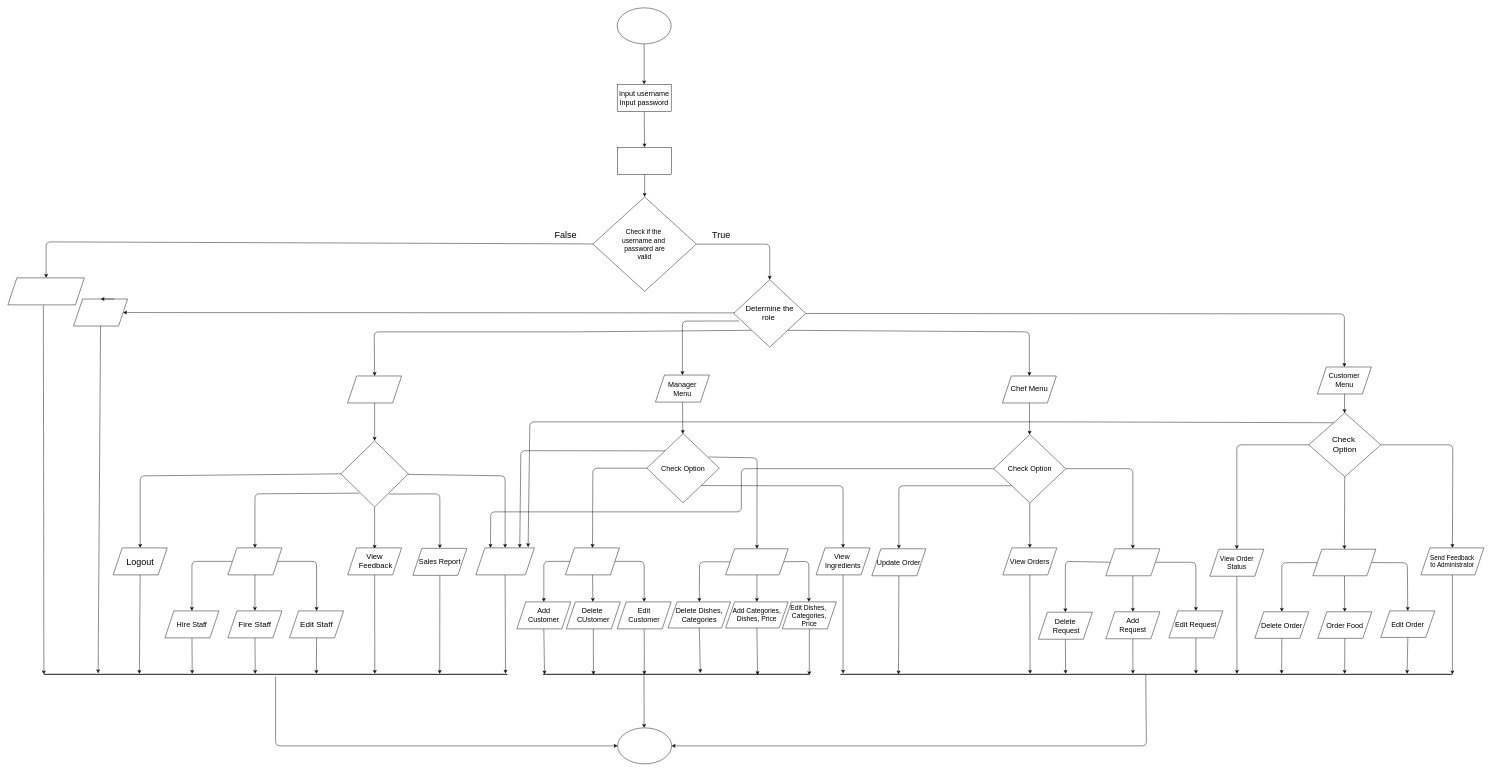
Some shapes in this 1492 by 772 pixel diagram are drawn without their labels. The shapes that lost their labels are listed below. From the top down, each one's box as (x1, y1, x2, y2) in pixels, then its label:
(617, 7, 671, 44): Start
(617, 147, 672, 174): Open the file
(7, 277, 84, 305): Display invalid username or password
(73, 299, 128, 326): Display invalid role
(347, 376, 402, 403): Admin Menu
(340, 440, 408, 507): Check the option
(227, 547, 282, 575): Manage Staff
(475, 547, 534, 575): Update Profile
(565, 547, 619, 575): Manage Customer
(725, 548, 788, 575): Manage menu categories and price
(1105, 548, 1160, 576): Request Ingredients
(1312, 549, 1376, 576): View and order food
(617, 727, 672, 764): End
